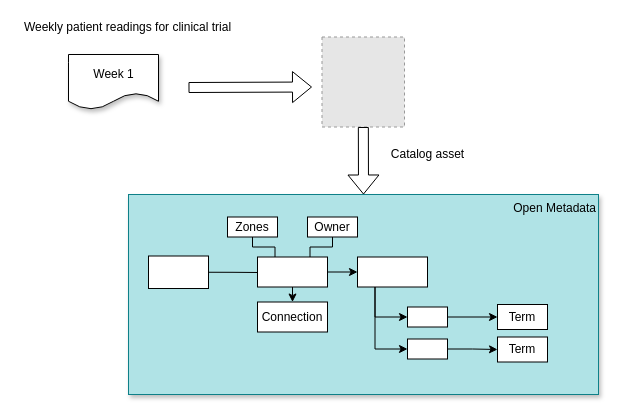
The diagram is 622 pixels wide and 419 high, and some of its shapes have lost their labels. Grey dashed boxes stand in for pictures. Each missing label, with the centre of its shape:
"License" belongs at pixel 178 271.
"Schema" belongs at pixel 392 271.
"Week 1 Asset" belongs at pixel 292 271.
